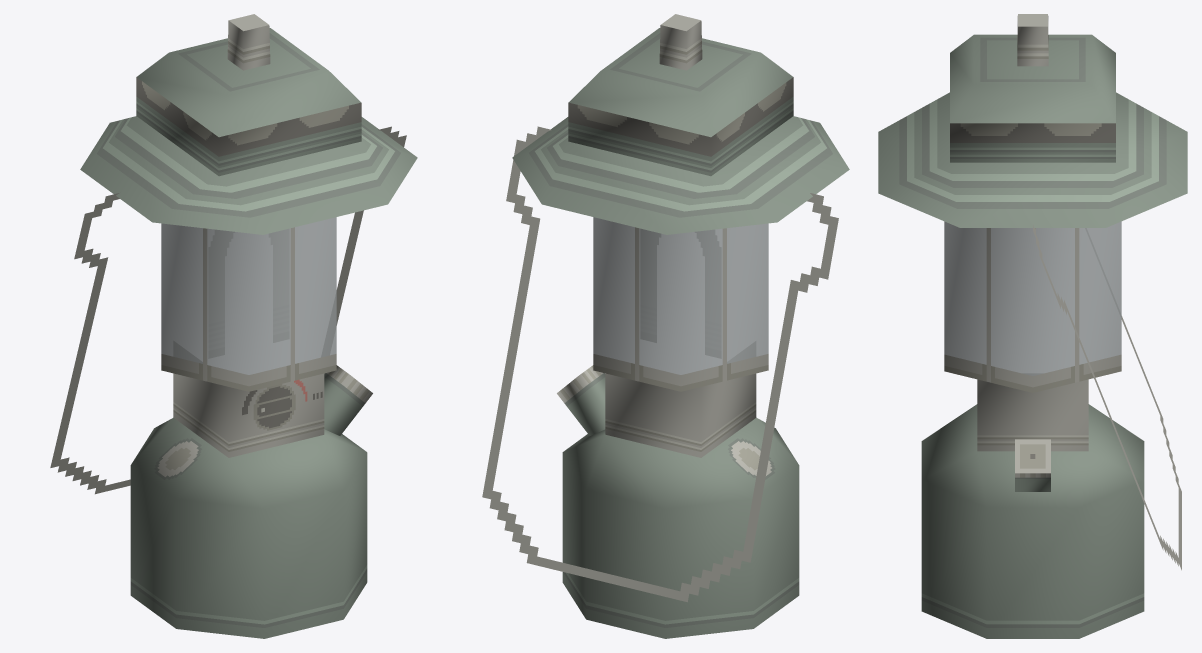
File: 0162_Lantern.glb
3 views of the same model, side by side, from view 1: azimuth 30°, elevation 25°; view 2: azimuth 150°, elevation 25°; view 3: azimuth 270°, elevation 25° (orthographic).
Visible parts, largest first — view 1: part_0; view 2: part_0; view 3: part_0.
Part boxes in pixels (<box>): part_0: <box>50,14,417,638</box>; part_0: <box>482,14,849,638</box>; part_0: <box>878,14,1187,638</box>.
Bounding box in the file's own units: 0.2335 × 0.3922 × 0.1924.
Materials: 1 (1 with a texture image).
